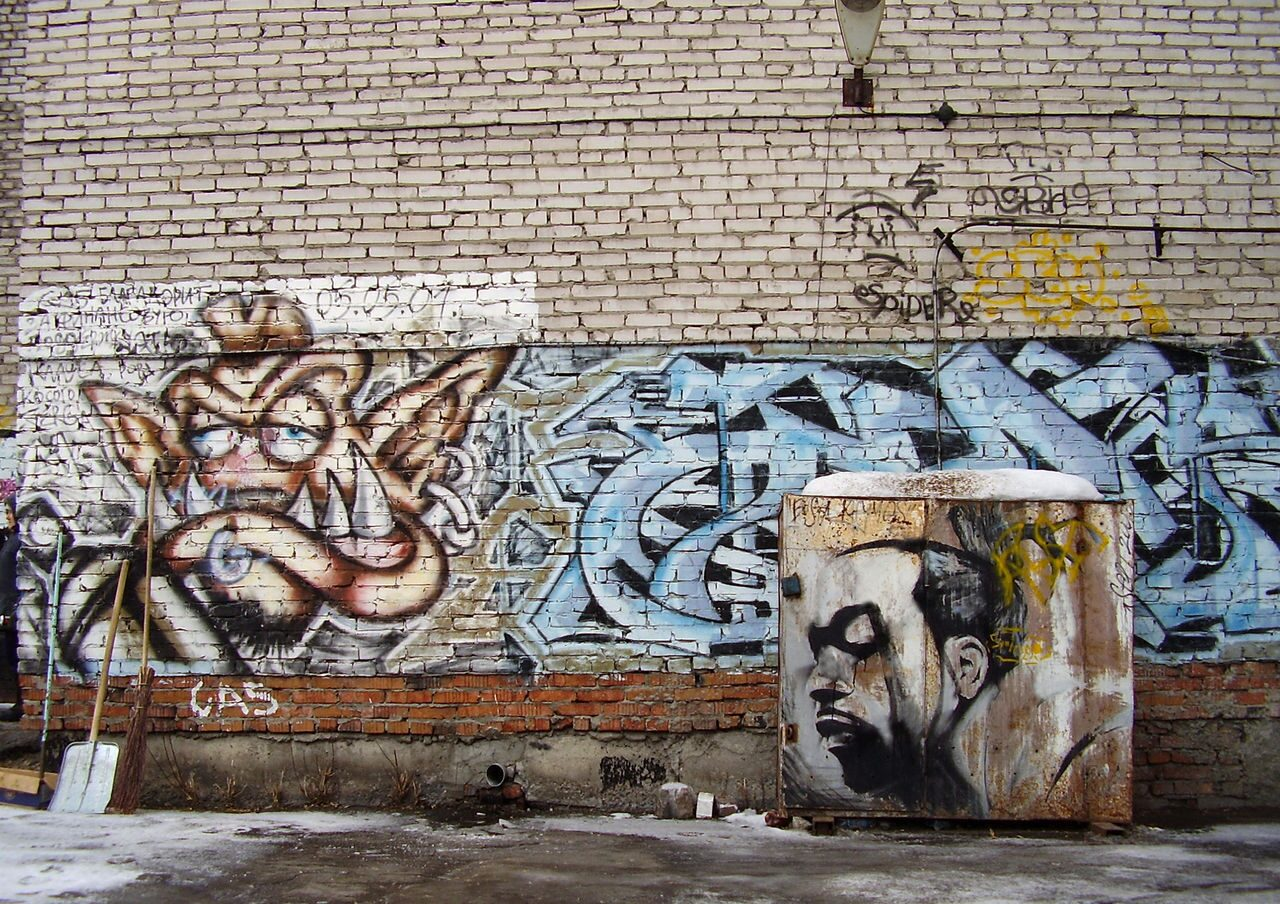graphite: (595, 342, 1280, 656), (111, 288, 493, 672), (802, 543, 1028, 803), (840, 172, 1187, 341), (969, 231, 1174, 345), (1004, 511, 1076, 669), (174, 669, 289, 741)
